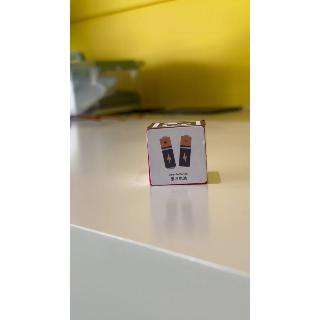Used_Battery: (148, 131, 209, 188)
